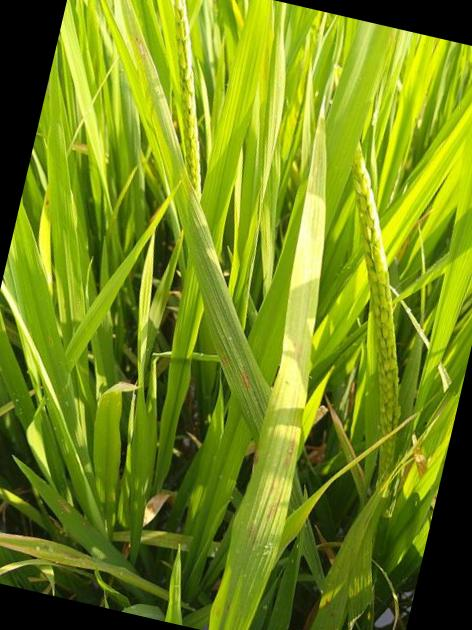Leaf Streak: (250, 297, 311, 558), (239, 371, 253, 393), (218, 349, 229, 369)
